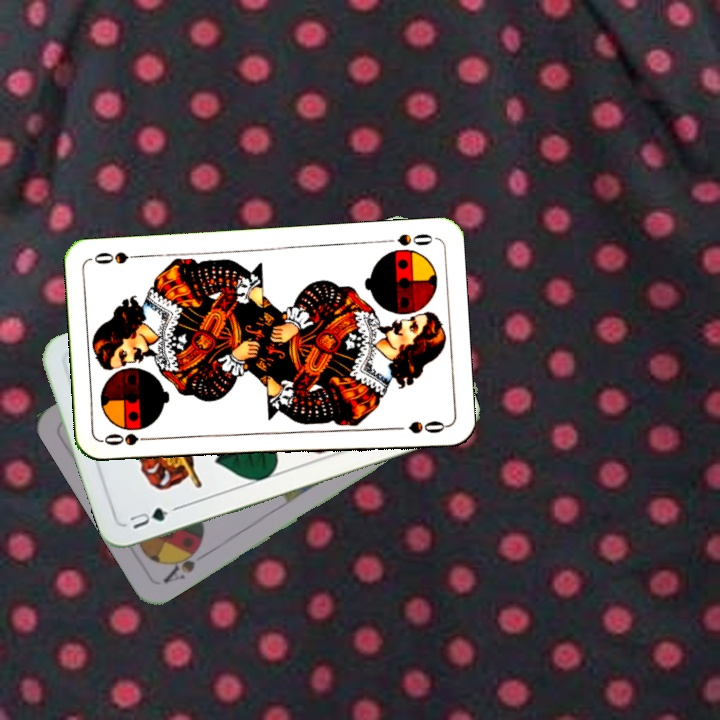GU: (125, 503, 180, 532)
SA: (159, 540, 210, 586)
SO: (378, 229, 437, 249), (100, 429, 159, 448)
